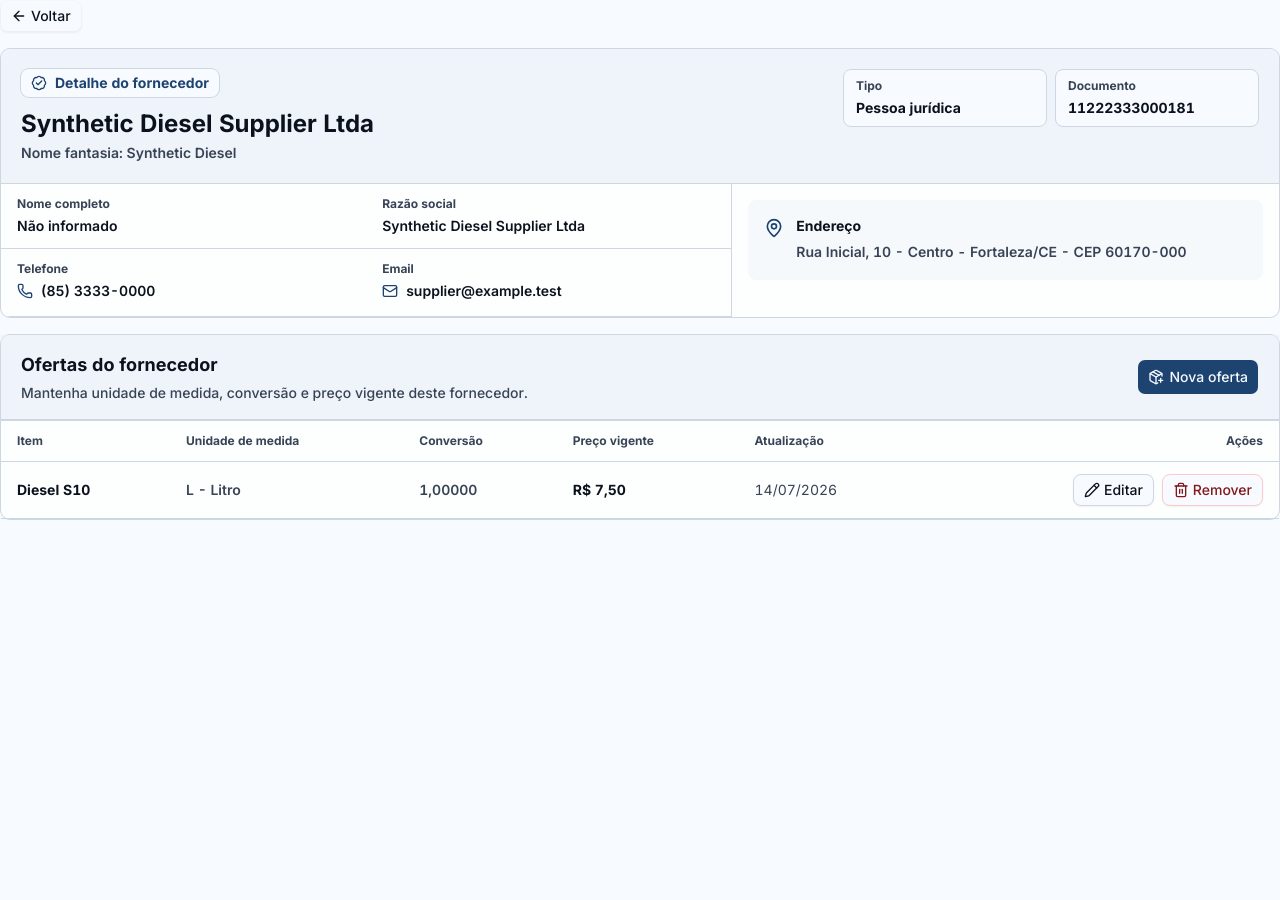
RegistryDetailPage supplier editing › shows measurement unit and editable conversion in the Supplier offer modal
This screenshot has width=1280, height=900.
Check: the column heading "Unidade de medida" is shown, box [170,420,403,462]
Check: the column heading "Conversão" is shown, box [403,420,557,462]
Click the button "Nova oferta" at (1198, 377), box [1136,359,1259,395]
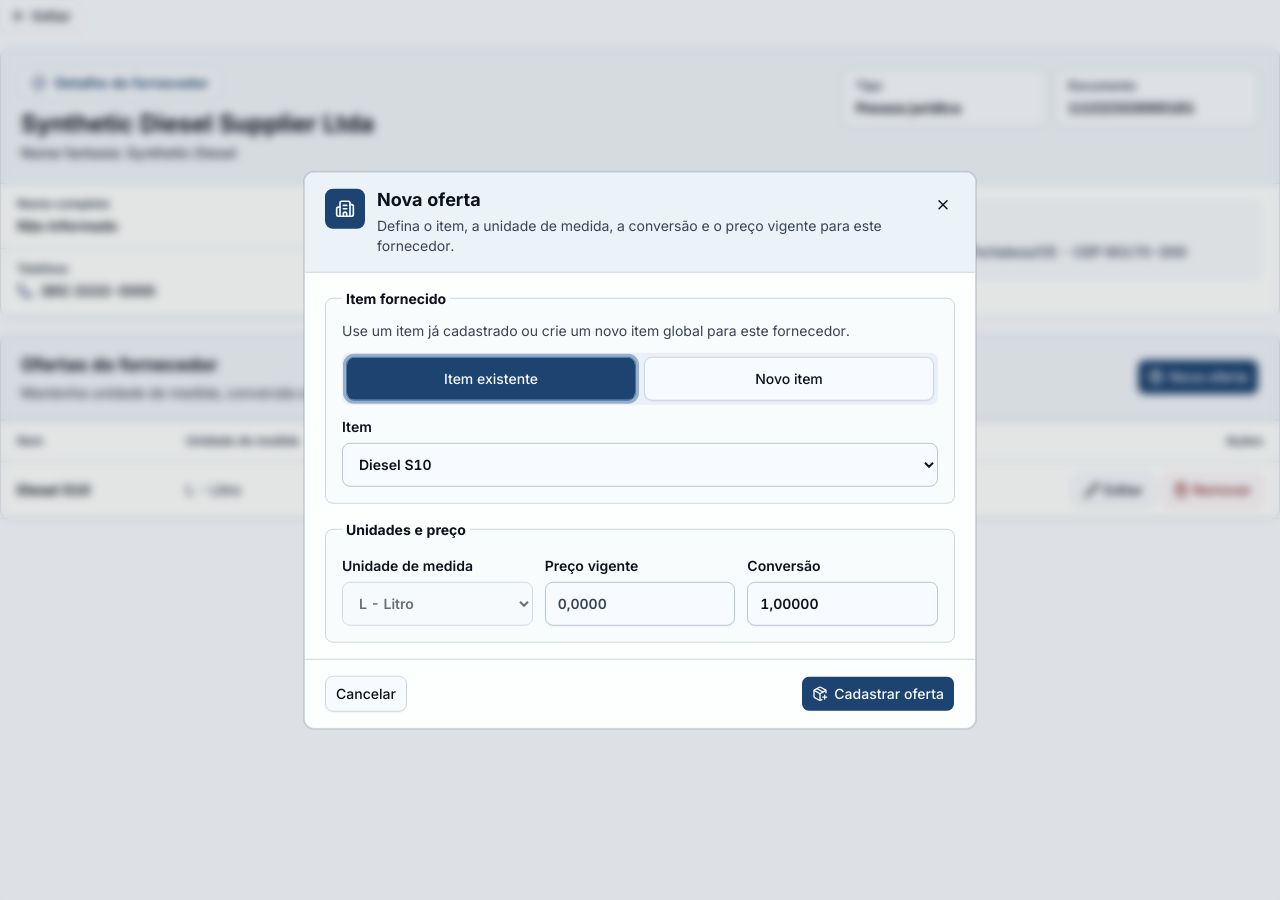
Check: the dropdown labelled "Unidade de medida" is shown, box [342,581,533,625]
Check: the field labelled "Conversão" holds "1,00000", box [747,581,938,625]
